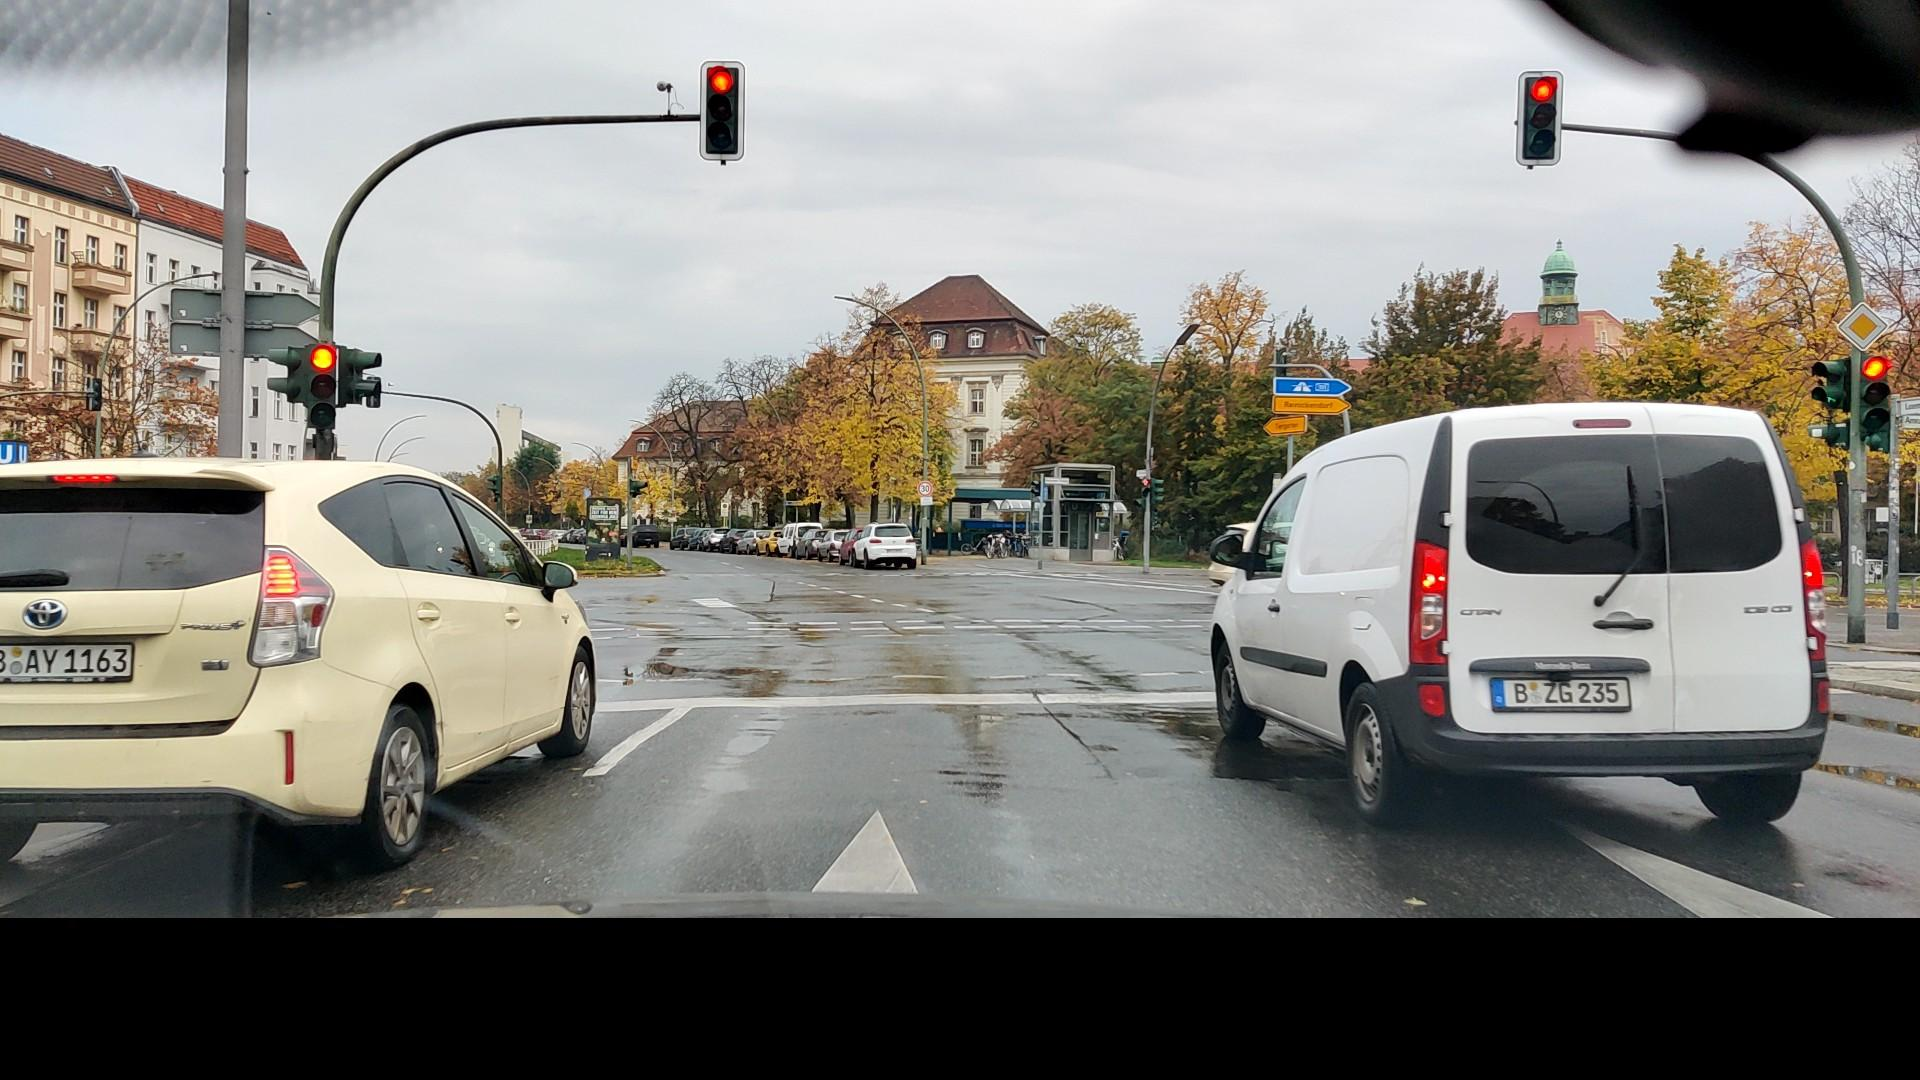Vehicle registration plate: (1490, 682, 1629, 709), (3, 649, 131, 678)
